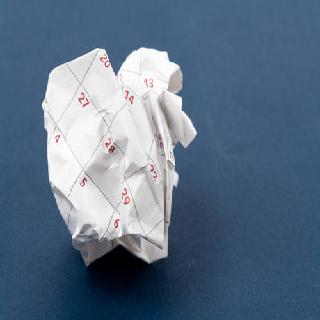8/可回收垃圾/纸: (41, 45, 198, 268)
